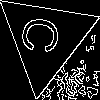C: (20, 14, 69, 57)
